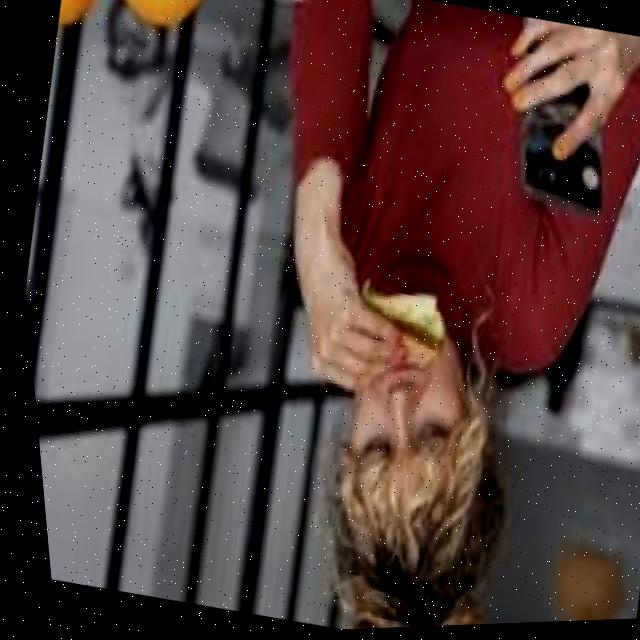eating-person: (96, 0, 640, 637)
